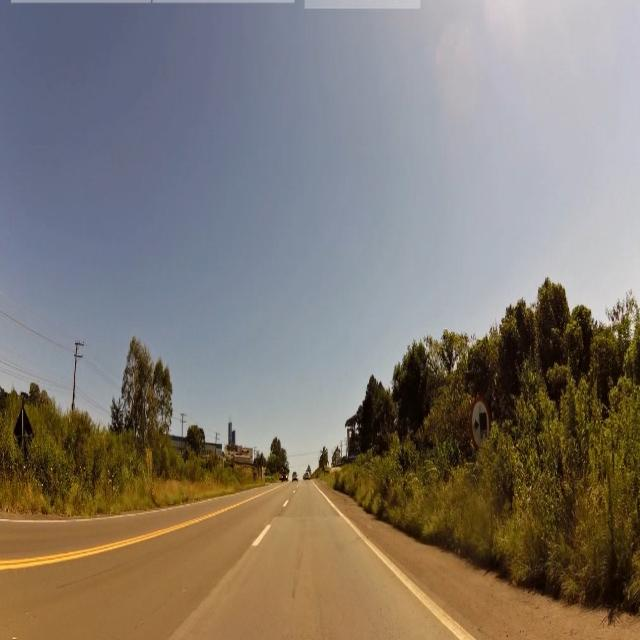R-27: (472, 396, 491, 447)
